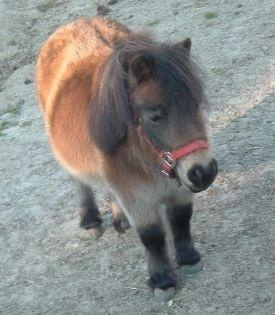horse: (35, 15, 219, 302)
